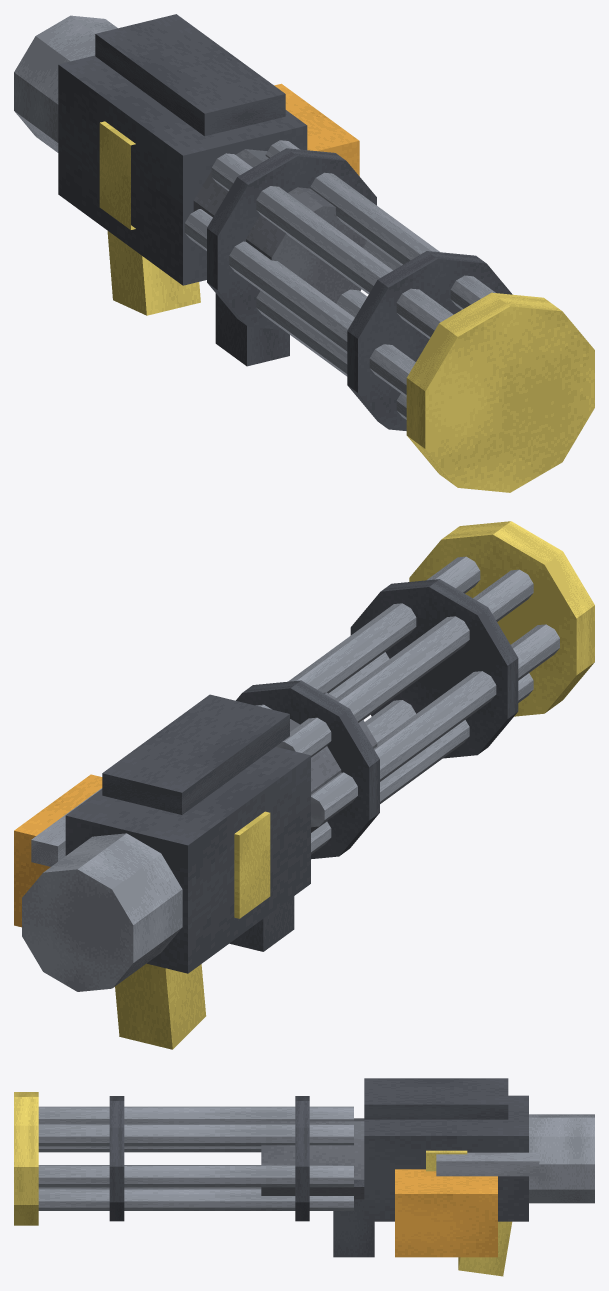
The model's file is weapon_minigun.glb.
3 renders of one model, top to bottom at view 1: azimuth 30°, elevation 25°; view 2: azimuth 150°, elevation 25°; view 3: azimuth 270°, elevation 25°, orthographic. The views are drawn at different scales.
Parts seen in each view (by area): view 1: weapon_minigun; view 2: weapon_minigun; view 3: weapon_minigun.
Part boxes in pixels (left/top/right/bottom): weapon_minigun: left=14, top=14, right=594, bottom=492; weapon_minigun: left=14, top=521, right=594, bottom=1049; weapon_minigun: left=14, top=1078, right=594, bottom=1276.
Bounding box in the file's own units: 0.8238 × 0.9439 × 2.82.
1 material, 1 textured.
